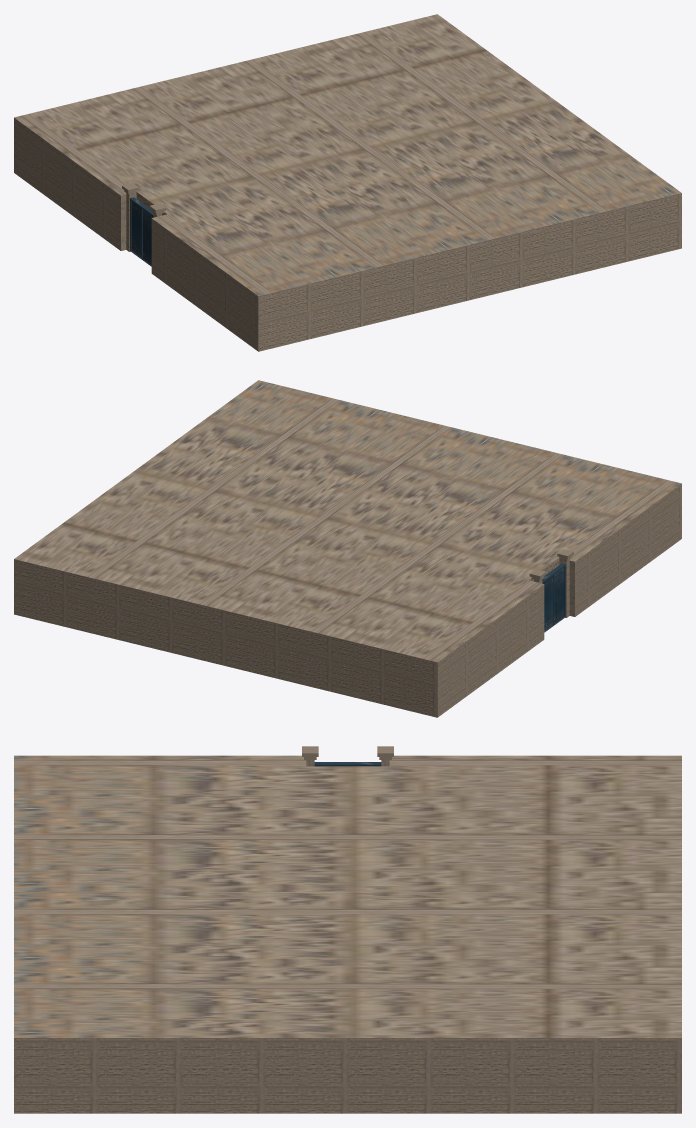
Rendered from WallBldg8.fbx.
3 renders of one model, top to bottom at view 1: azimuth 30°, elevation 25°; view 2: azimuth 150°, elevation 25°; view 3: azimuth 270°, elevation 25°, orthographic. The views are drawn at different scales.
Parts seen in each view (by area): view 1: polySurface5; view 2: polySurface5; view 3: polySurface5.
Boxes of the visible parts, box(x1,y1,x2,y2) form: polySurface5: box(14, 14, 681, 351); polySurface5: box(14, 380, 681, 717); polySurface5: box(14, 746, 681, 1113).
Size of the model in its own units: 80.01 by 11.5 by 80.
Materials: 2 (2 with a texture image).
